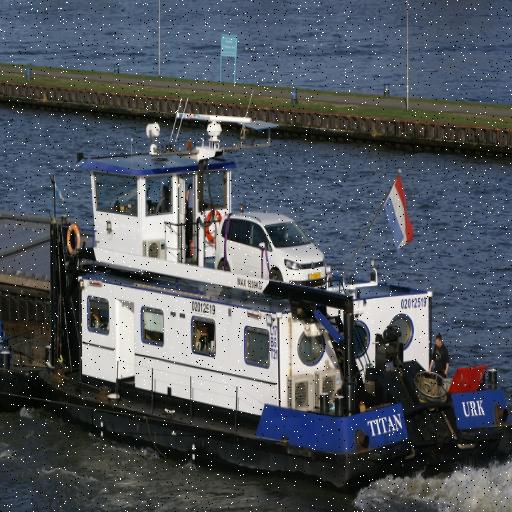tugboat: (35, 86, 512, 502)
